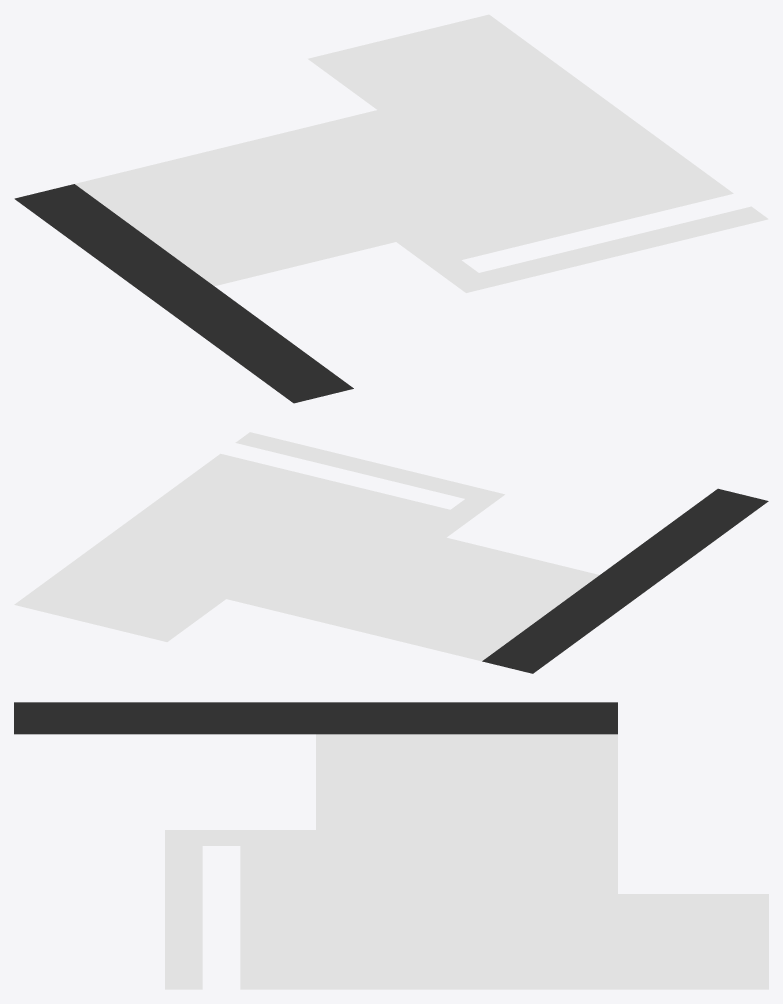
Rendered from dimian01.FBX.
The picture shows the model from 3 angles, top to bottom: view 1: azimuth 30°, elevation 25°; view 2: azimuth 150°, elevation 25°; view 3: azimuth 270°, elevation 25°; orthographic projection. The views are drawn at different scales.
Parts seen in each view (by area): view 1: dimian01; view 2: dimian01; view 3: dimian01.
Boxes of the visible parts, x1,y1,x2,y2 form: dimian01: (14, 14, 768, 403); dimian01: (14, 432, 768, 673); dimian01: (14, 702, 768, 989).
Bounding box in the file's own units: 1800 × 1.22e-13 × 2000.
